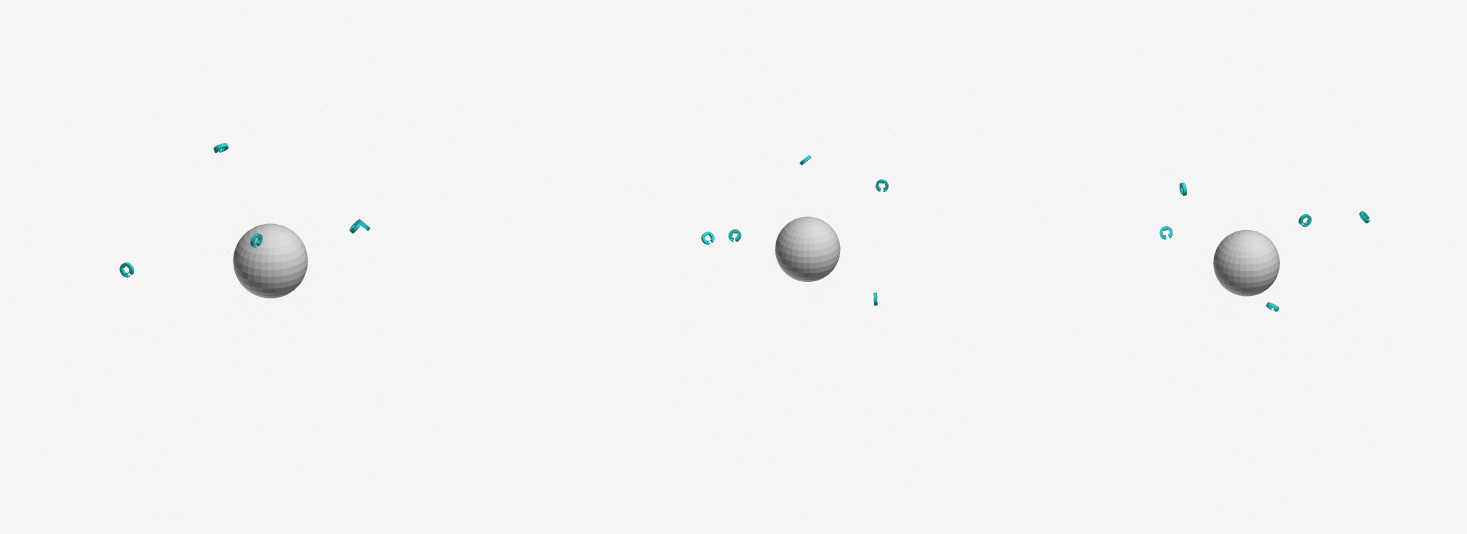
The picture shows the model from 3 angles, left to right: view 1: azimuth 30°, elevation 25°; view 2: azimuth 150°, elevation 25°; view 3: azimuth 270°, elevation 25°; orthographic projection. The views are drawn at different scales.
Parts seen in each view (by area): view 1: Sphere; view 2: Sphere; view 3: Sphere, Github.
Part boxes in pixels (x1,y1,x2,y2): Sphere: [233, 223, 307, 298]; Sphere: [775, 216, 840, 281]; Sphere: [1213, 230, 1279, 296]; Github: [1159, 182, 1370, 311].
Size of the model in its own units: 265 by 232 by 196.
